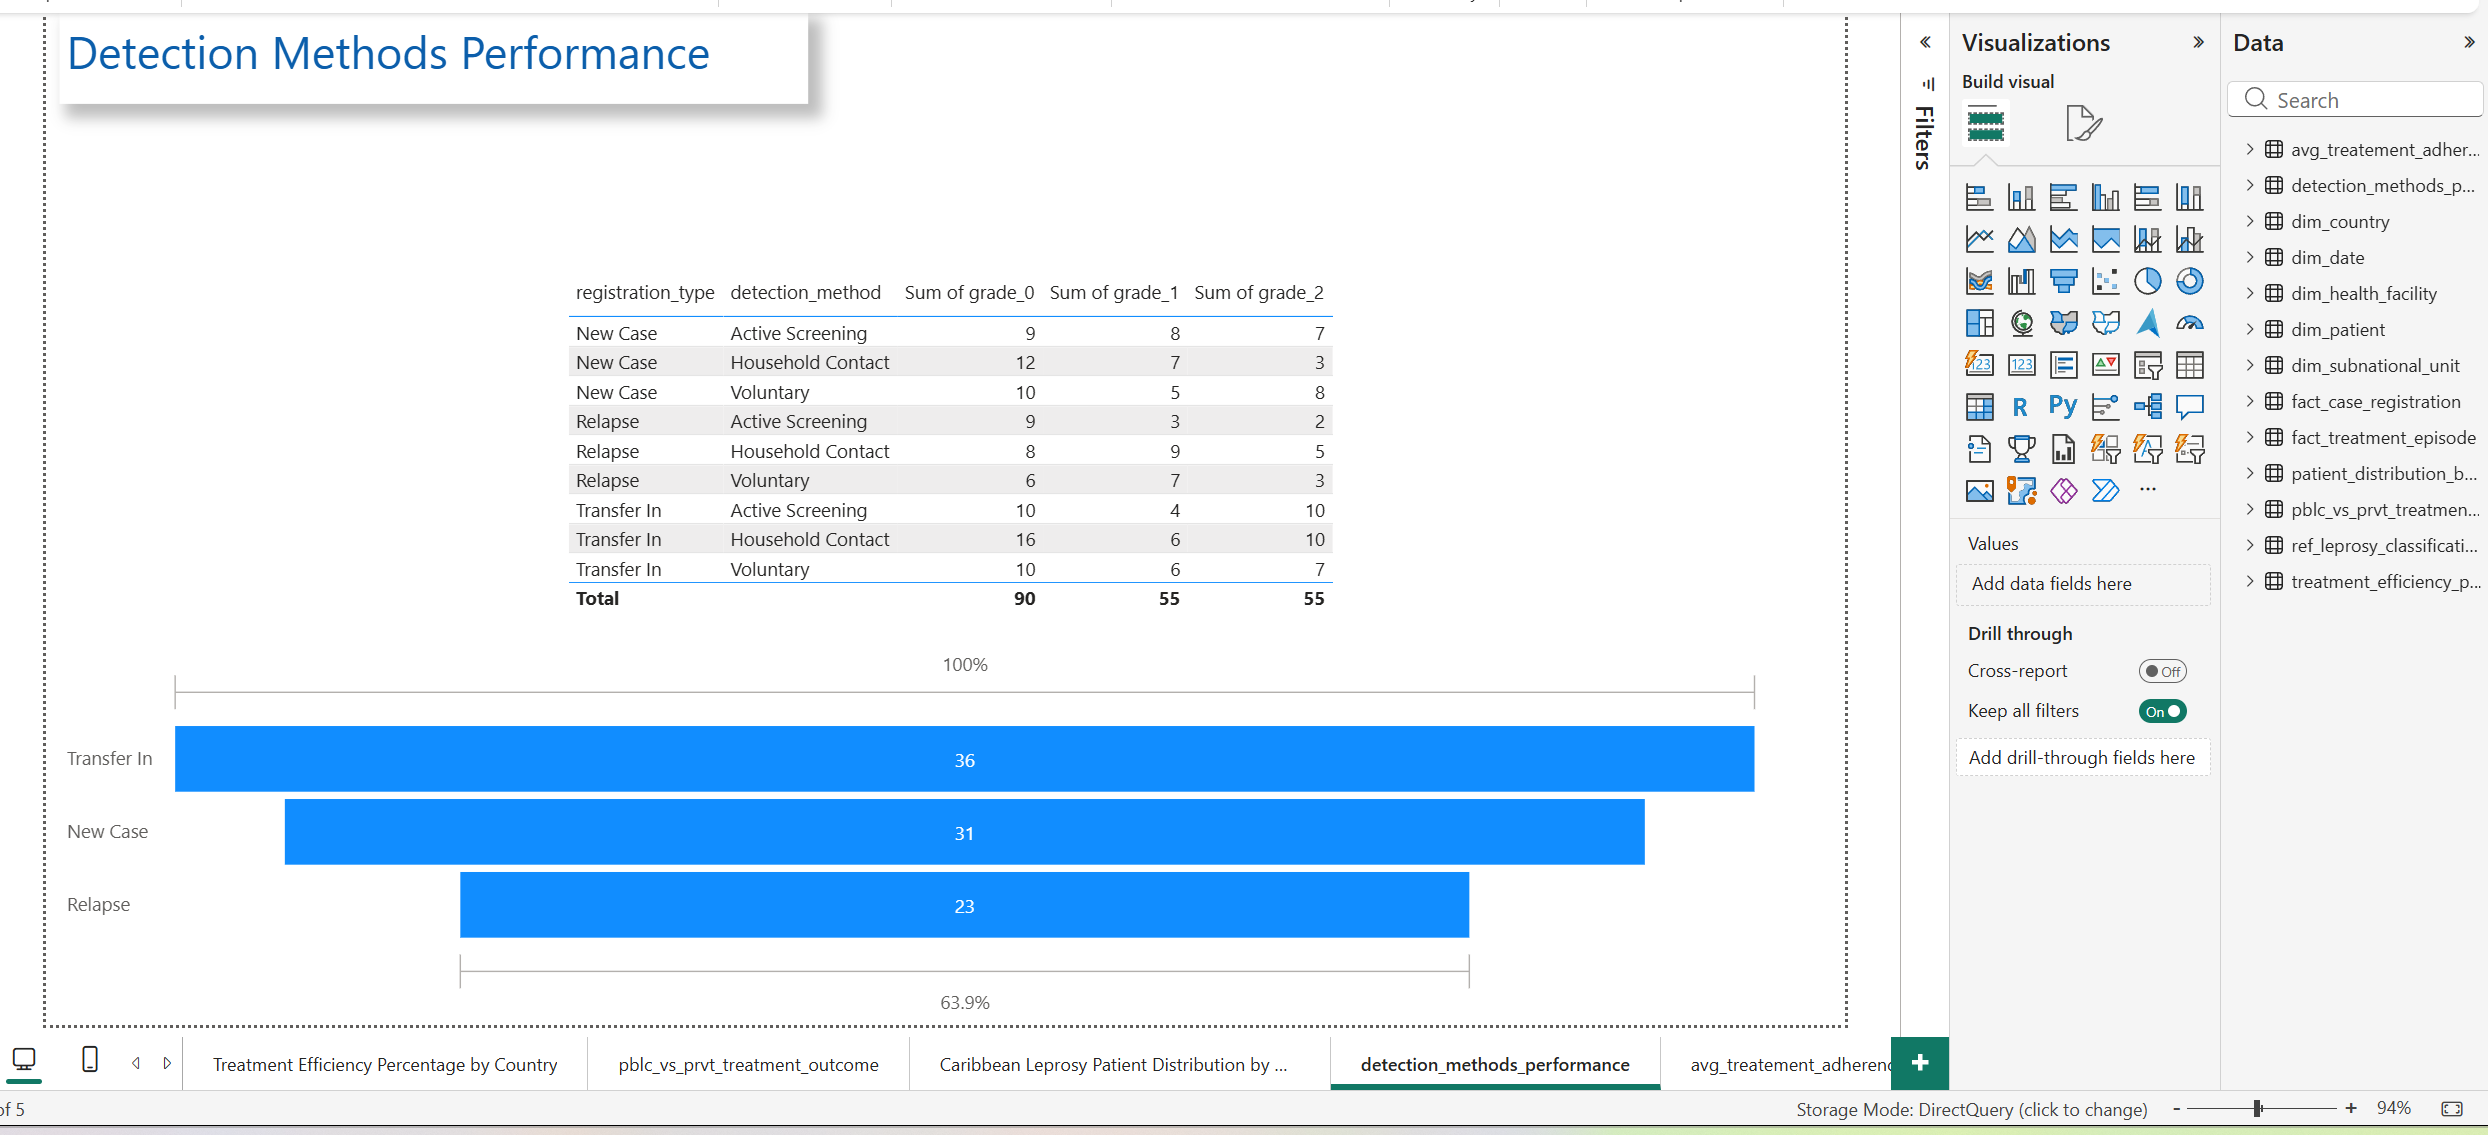

This screenshot's page, from the dashboard's own definition file:
{"tool":"powerbi","page":{"name":"detection_methods_performance","canvas":[1280,720],"ordinal":3},"visuals":[{"type":"textbox","box":[9.4,0,532.4,64.8],"z":0},{"type":"tableEx","fields":{"Values":["detection_methods_performance.registration_type","detection_methods_performance.detection_method","Sum(detection_methods_performance.grade_0)","Sum(detection_methods_performance.grade_1)","Sum(detection_methods_performance.grade_2)"]},"box":[366.3,182.6,568.9,262.7],"z":1000},{"type":"funnel","fields":{"Y":["Sum(detection_methods_performance.grade_0)"],"Category":["detection_methods_performance.registration_type","patient_distribution_by_gender_and_country.country_name"]},"box":[9.4,445.3,1215.6,274.5],"z":2000}]}

Visuals, with their boxes on the page's 1280x720 design canvas (x1, y1, x2, y2). These are canvas units, not pixel positions in the 2488x1135 screenshot, which may show the page scaled, cropped or inside an application window:
textbox: 9, 0, 542, 65
tableEx - detection_methods_performance.registration_type x detection_methods_performance.detection_method: 366, 183, 935, 445
funnel - Sum(detection_methods_performance.grade_0) x detection_methods_performance.registration_type: 9, 445, 1225, 720
